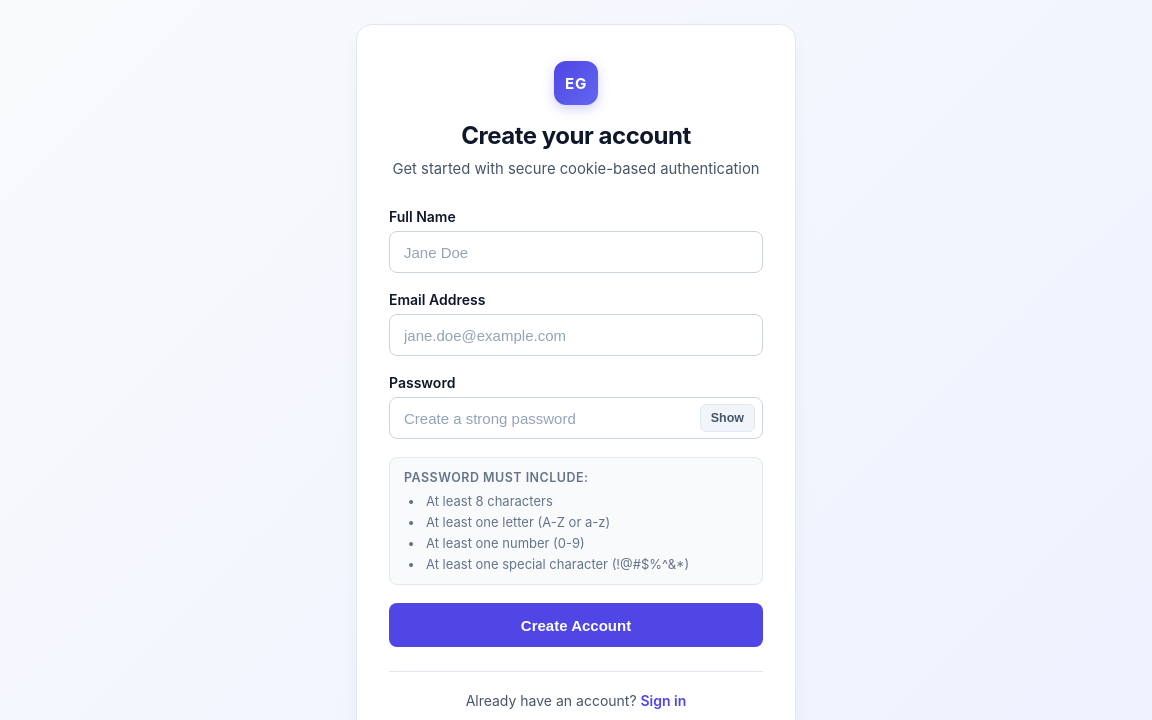
Scenario: Frontend Authentication & Protected Routing Suite › 1. Signup form validation › displays inline validation messages for short name, invalid email, and weak password
The width and height of the screenshot is (1152, 720).
Type "Jo" into the field labelled "Full Name" at (576, 252), box [389,231,763,273]
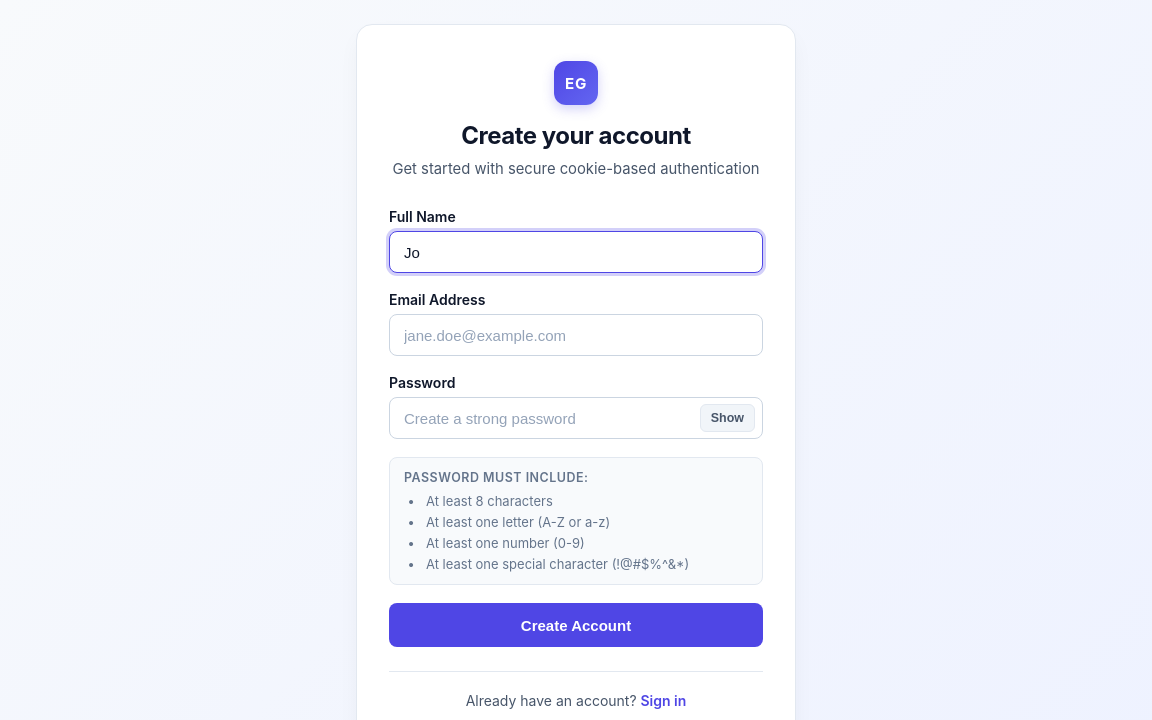
Type "invalid-email" into the field labelled "Email Address" at (576, 335), box [389,314,763,356]
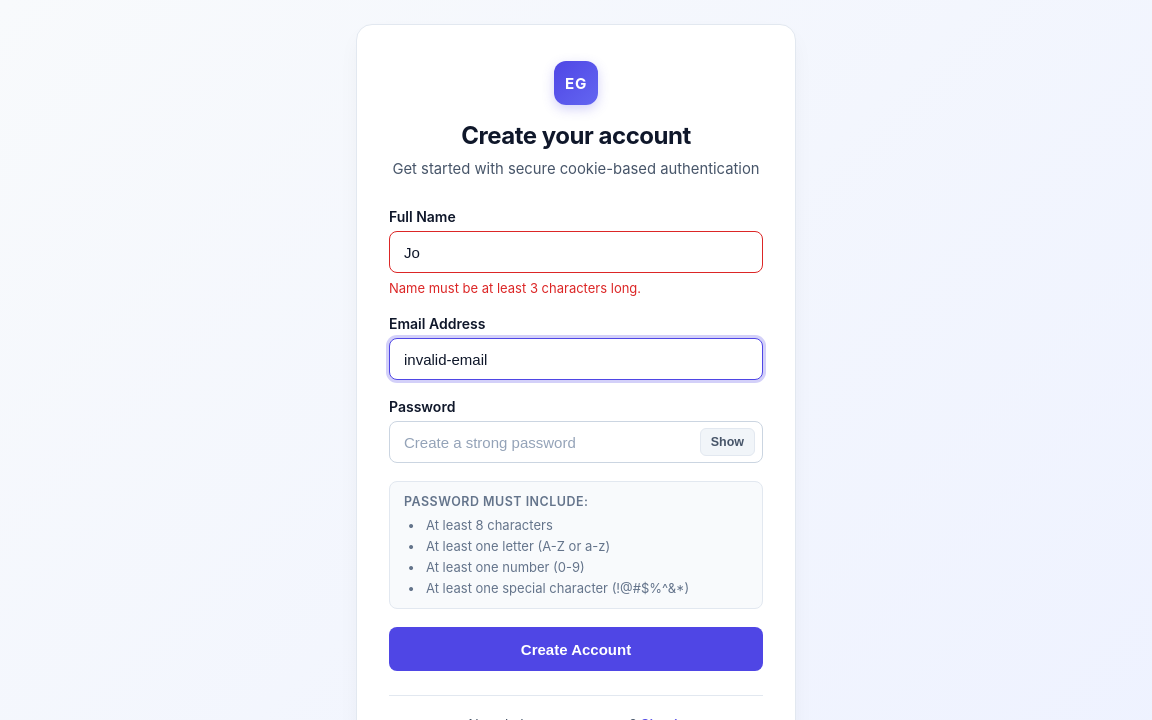
Type "short" into the password field labelled "Password" at (576, 442), box [389,421,763,463]
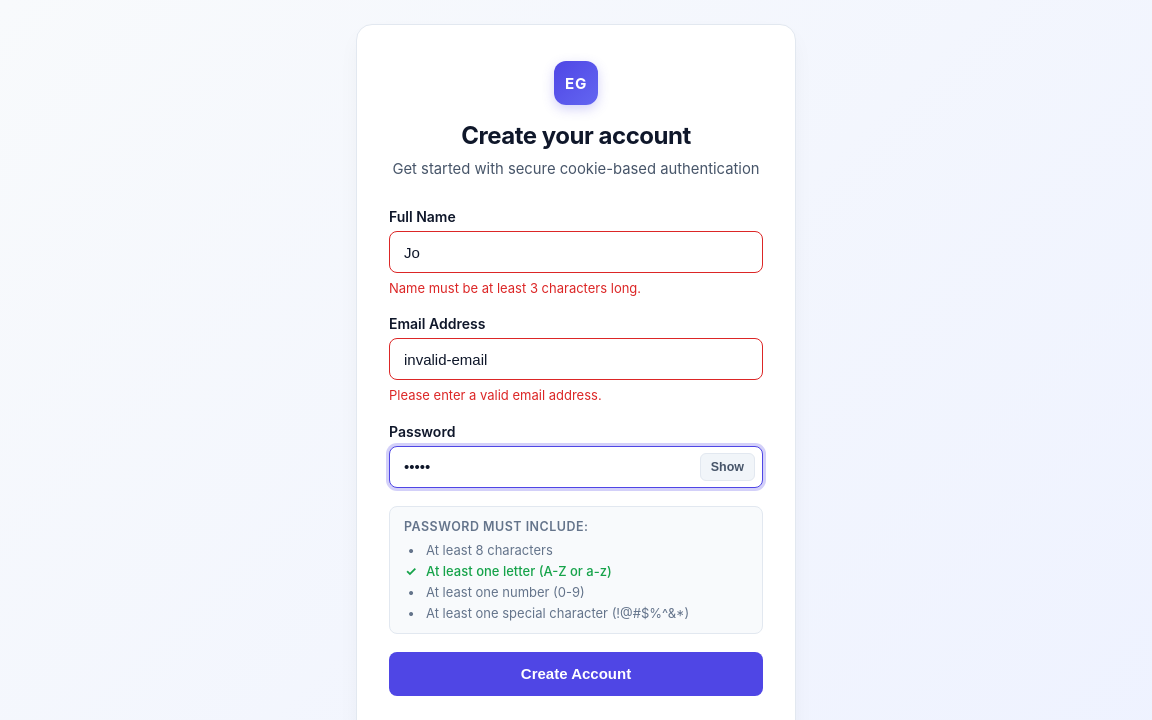
Click the button "Create Account" at (576, 674), box [389,652,763,696]
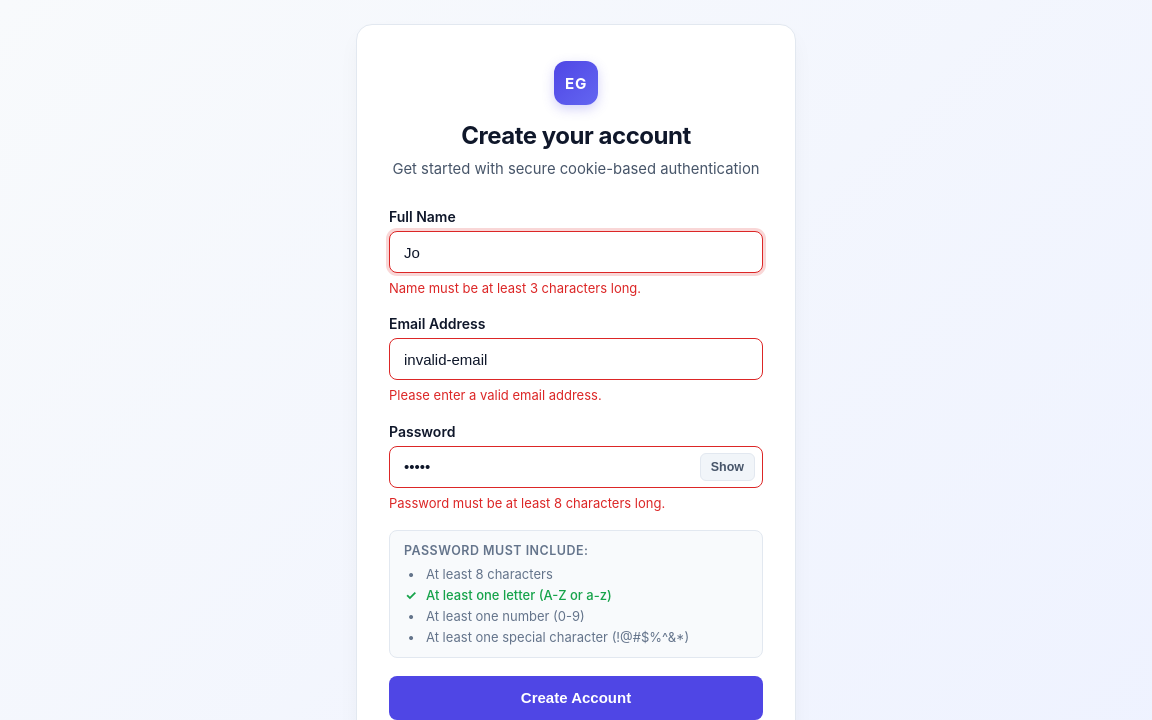
Expected: the text "Name must be at least 3 characters long." is shown, [389,280,641,296]
Expected: the text "Please enter a valid email address." is shown, [389,387,602,403]
Expected: the text "Password must be at least 8 characters long." is shown, [389,495,665,511]
